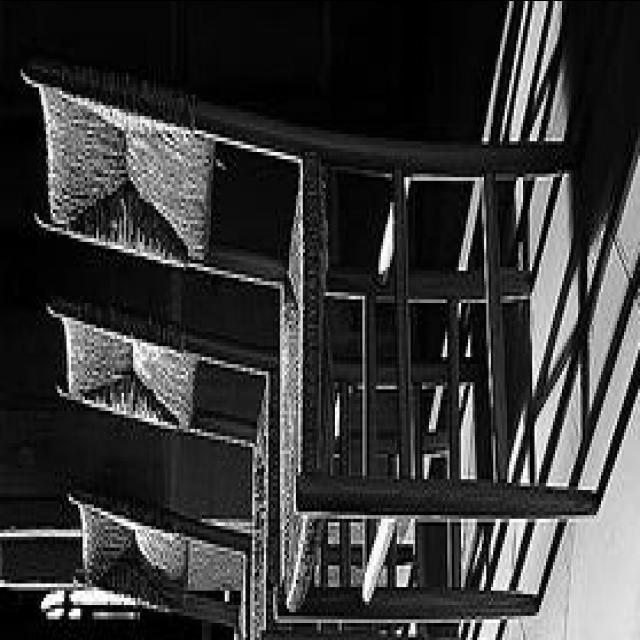chair: (22, 47, 600, 600), (35, 282, 527, 638), (58, 477, 455, 639)
